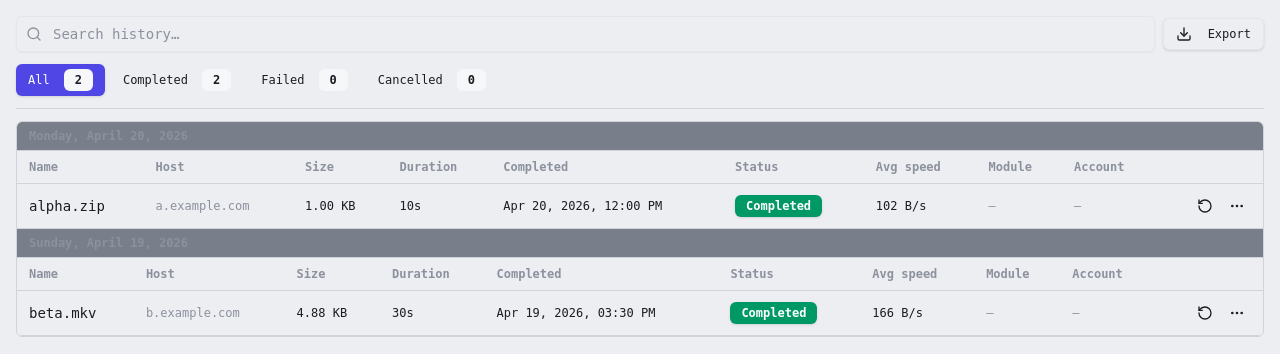
Test: HistoryView integration › should show the search-empty state when a search returns no results
Check: the text "alpha.zip" is shown, box [29,198,105,214]
Type "zeta" into the field labelled "Search history".
click(585, 34); type("zeta")  # box [16,16,1155,52]
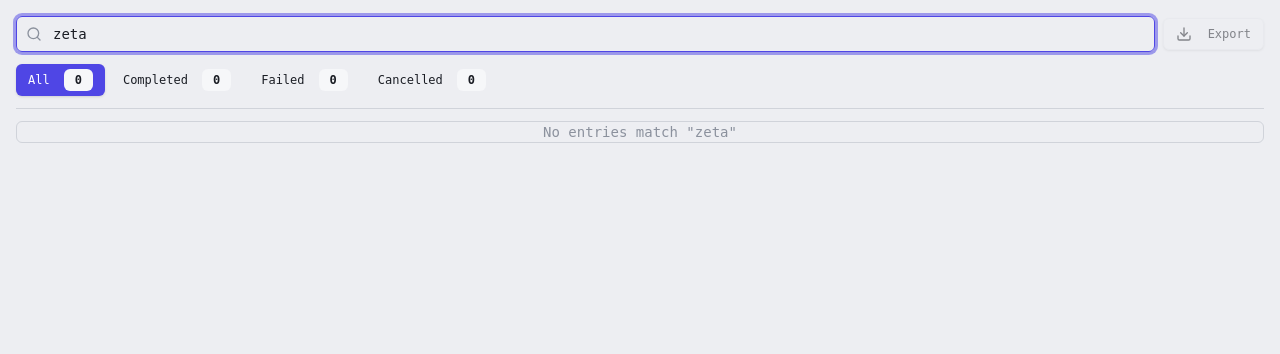
Check: the text "No entries match \"zeta\"" is shown, box [543,124,737,140]
